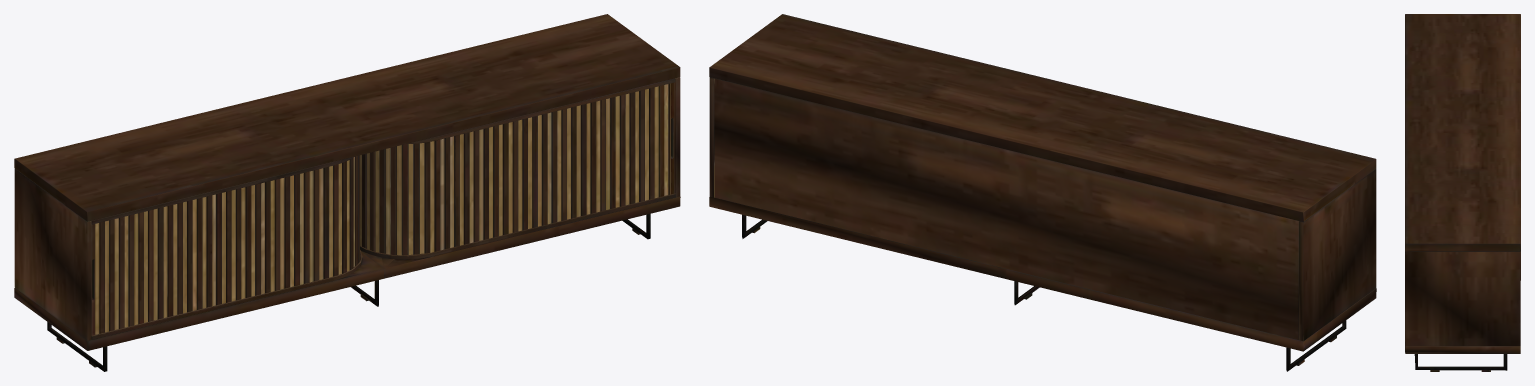
File: modern_wooden_cabinet.glb
3 renders of one model, left to right at view 1: azimuth 30°, elevation 25°; view 2: azimuth 150°, elevation 25°; view 3: azimuth 270°, elevation 25°, orthographic. The views are drawn at different scales.
Parts seen in each view (by area): view 1: modern_wooden_cabinet_body, modern_wooden_cabinet_door_l; view 2: modern_wooden_cabinet_body; view 3: modern_wooden_cabinet_body.
Part boxes in pixels (bbox=[...]): modern_wooden_cabinet_body: bbox=[14, 14, 680, 371]; modern_wooden_cabinet_door_l: bbox=[91, 82, 674, 335]; modern_wooden_cabinet_body: bbox=[709, 14, 1376, 371]; modern_wooden_cabinet_body: bbox=[1405, 14, 1520, 371].
Size of the model in its own units: 2.44 by 0.6801 by 0.5201.
Materials: 1 (1 with a texture image).
